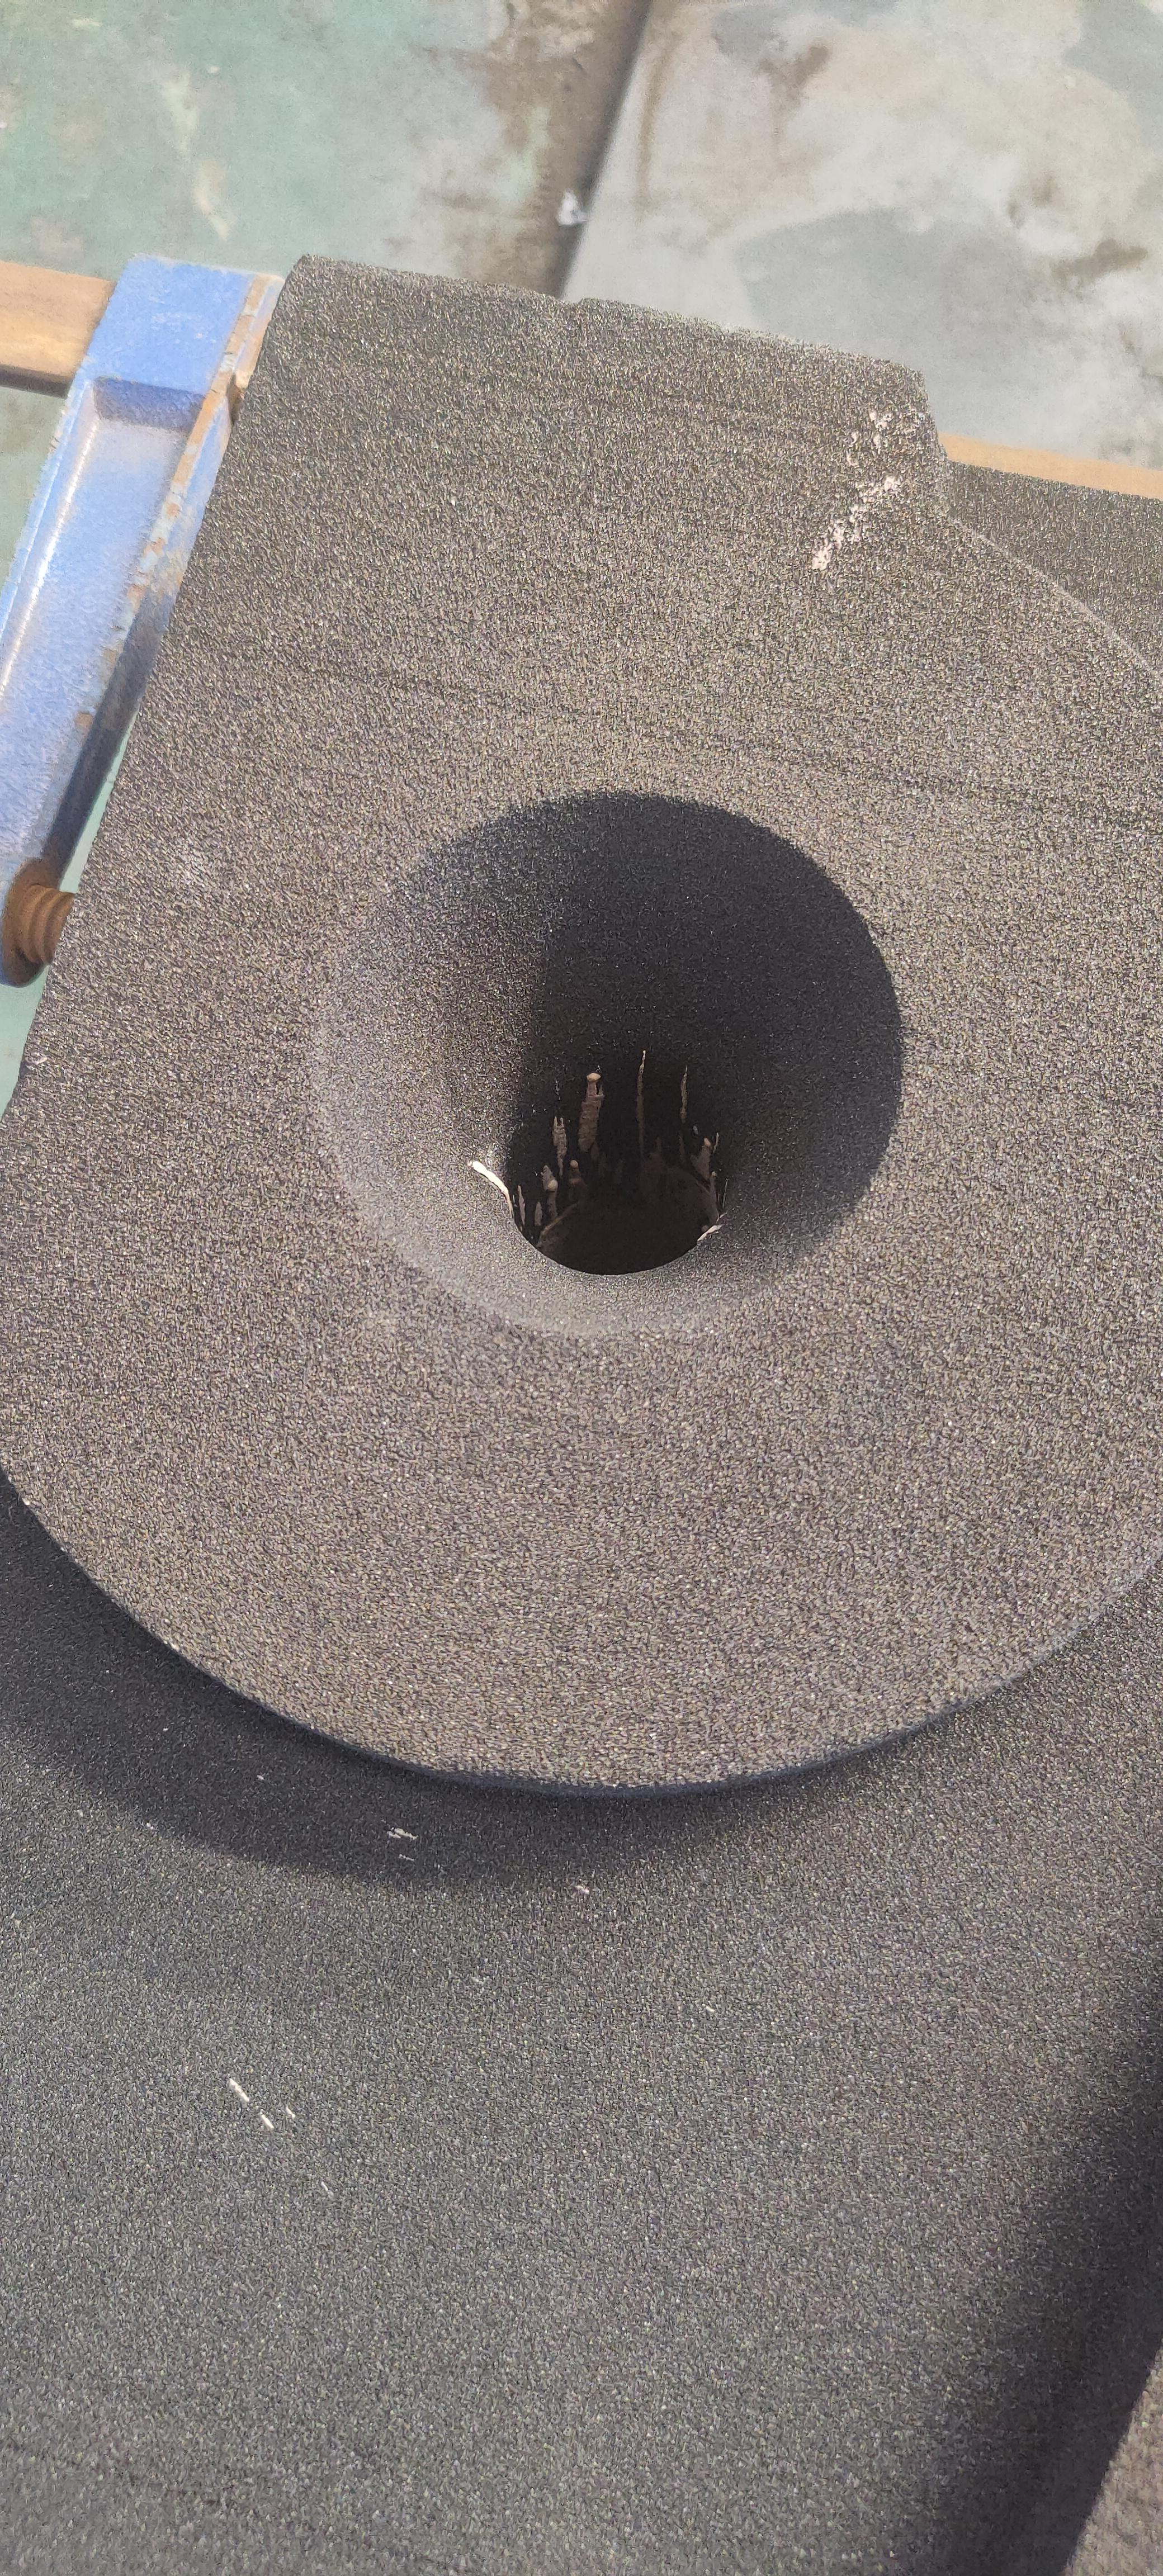pouring hole: (302, 790, 905, 1344)
